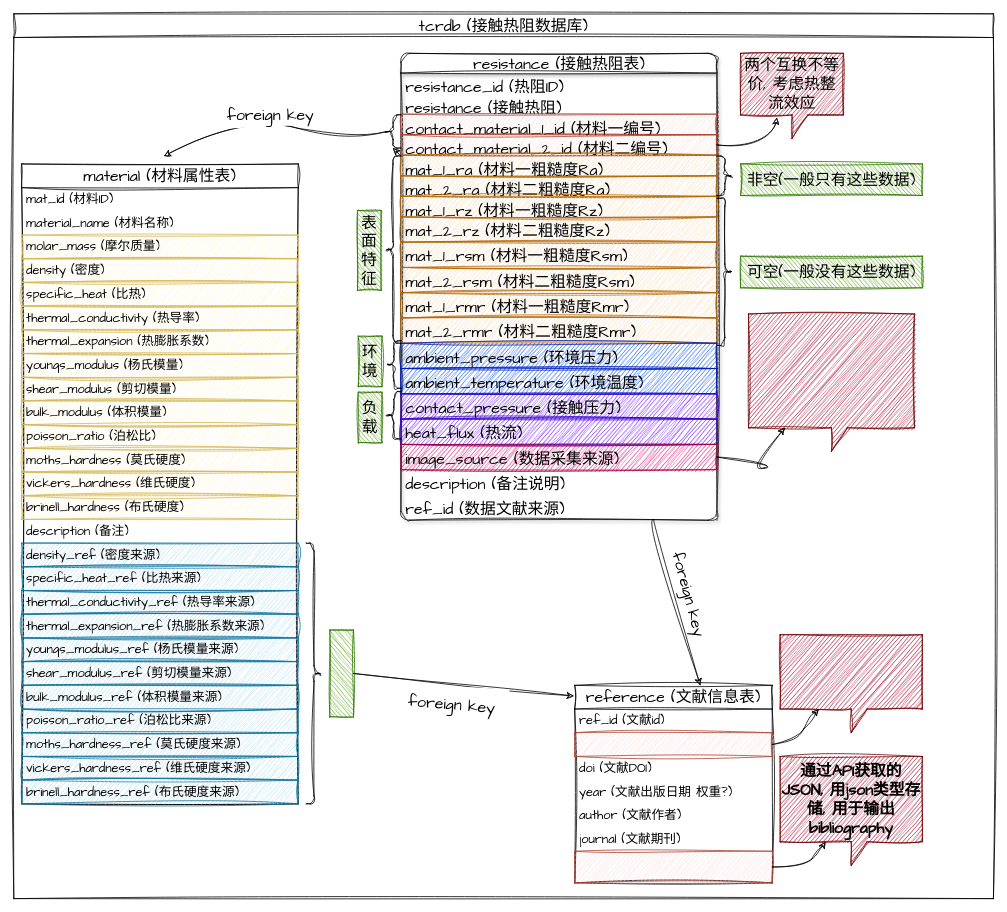
Image size: 1007x912. Some labels were removed from this diagram. Each missing label, with the centre of its shape:
detail (详细信息, ): the point at 673,866
title (标题 ): the point at 673,744
从点图或表格图片中获取数据的原图. 需要吗? 好处是方便检查, 展示 坏处是不好存储: the point at 831,382
数据来源: the point at 341,673
需要吗?展示信息时需要, 训练时是否需要?: the point at 850,683
